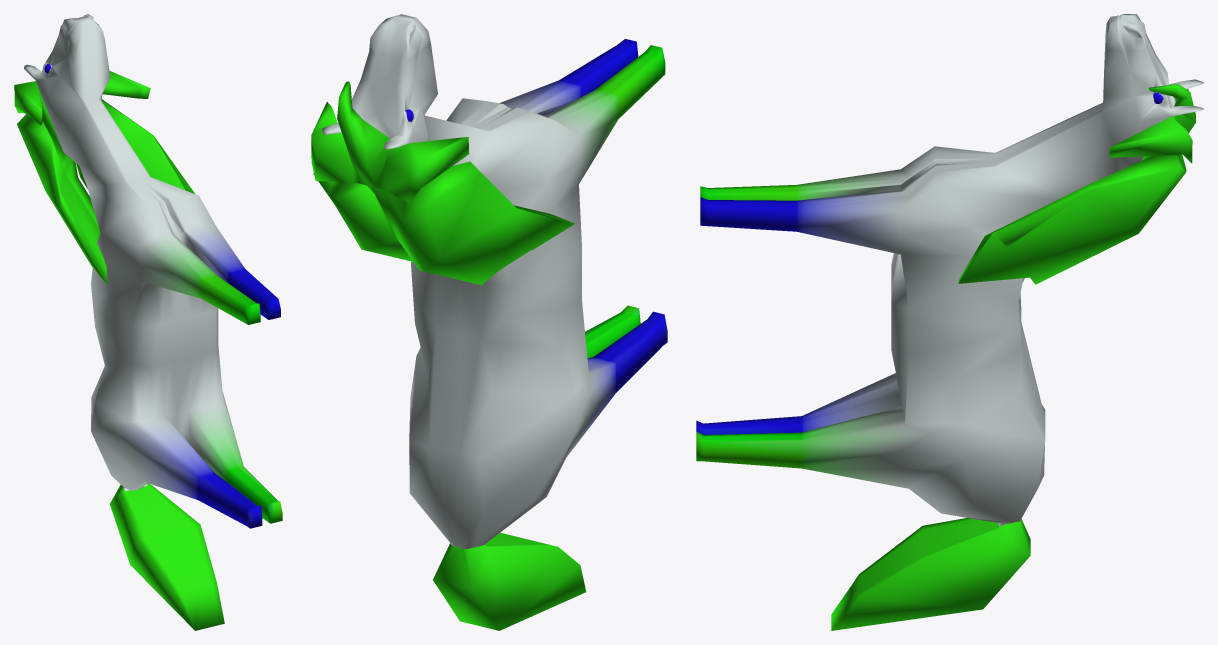
The model's file is horsie11.fbx.
The picture shows the model from 3 angles, left to right: view 1: azimuth 30°, elevation 25°; view 2: azimuth 150°, elevation 25°; view 3: azimuth 270°, elevation 25°; orthographic projection. The views are drawn at different scales.
Parts seen in each view (by area): view 1: Cube, Cube.001; view 2: Cube, Cube.001; view 3: Cube, Cube.001.
Boxes of the visible parts, <box> form: Cube: <box>24,14,282,528</box>; Cube.001: <box>14,71,224,630</box>; Cube: <box>322,14,667,549</box>; Cube.001: <box>311,81,586,630</box>; Cube: <box>696,14,1203,526</box>; Cube.001: <box>831,84,1195,630</box>.
Bounding box in the file's own units: 2.37 × 9.6 × 7.32.
